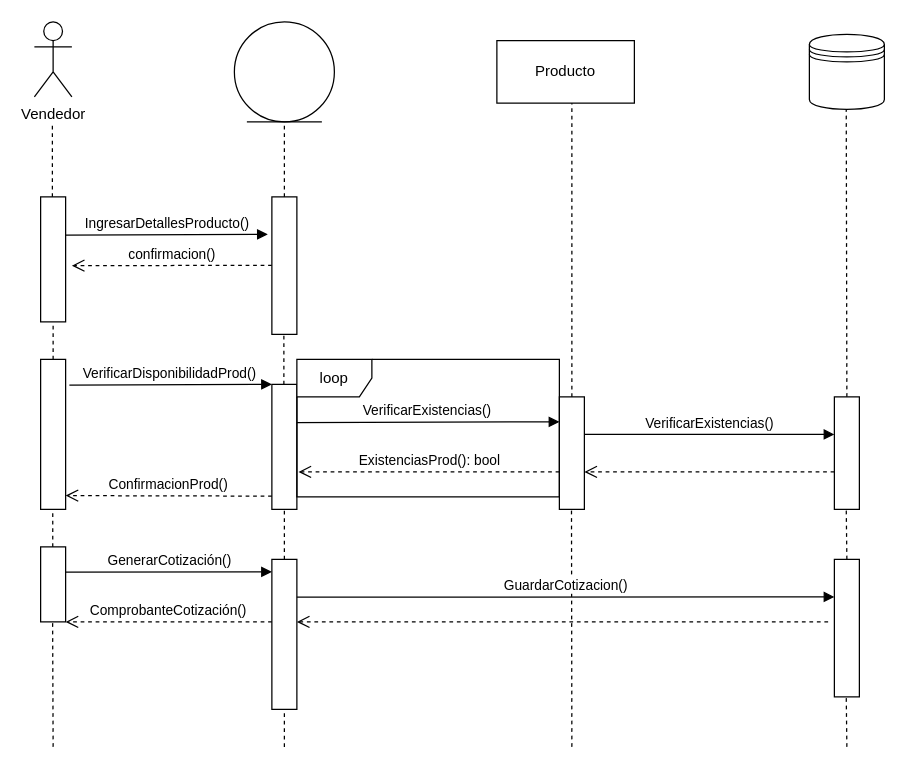
Some shapes in this 906 by 770 pixel diagram are drawn without their labels. Each missing label, with the centre of its shape:
DB: the point at 846,71
Sistema: the point at 283,71
